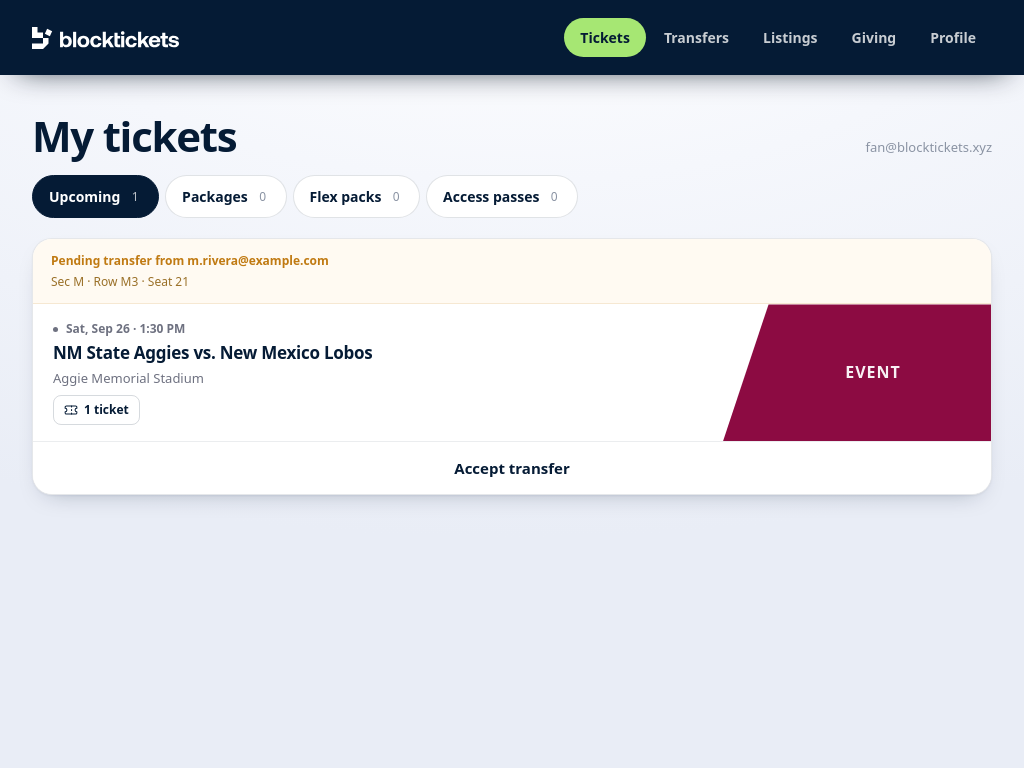
Test: SeasonTickets empty wallet › accepts pending package event transfer without refetching sent transfers or access passes
Click the button "Accept transfer": (512, 468) left=51, top=454, right=973, bottom=482
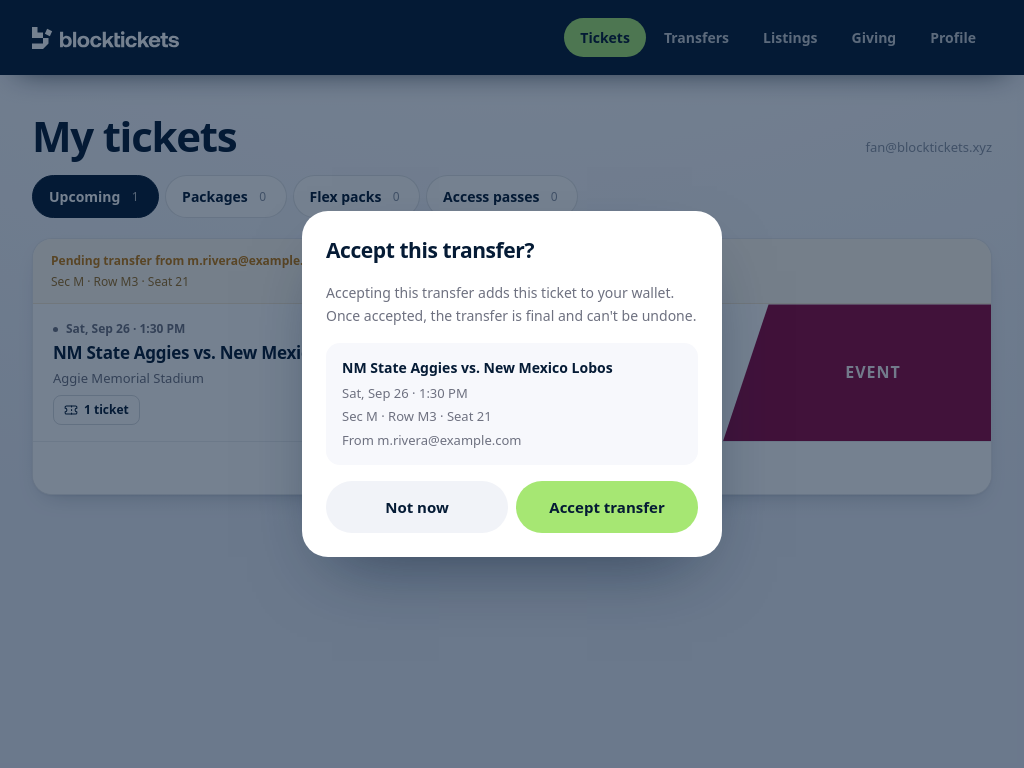
Click the button "Accept transfer": (607, 507) left=516, top=481, right=698, bottom=533
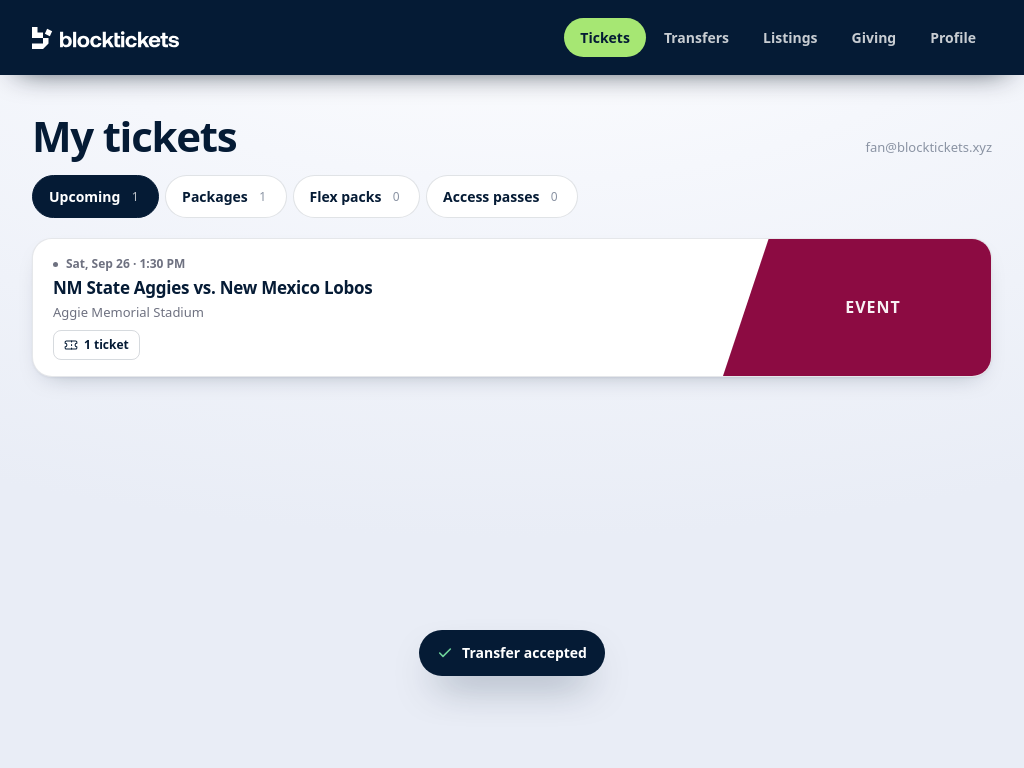
Expected: the text "Pending transfer from m.rivera@example.com" is gone
